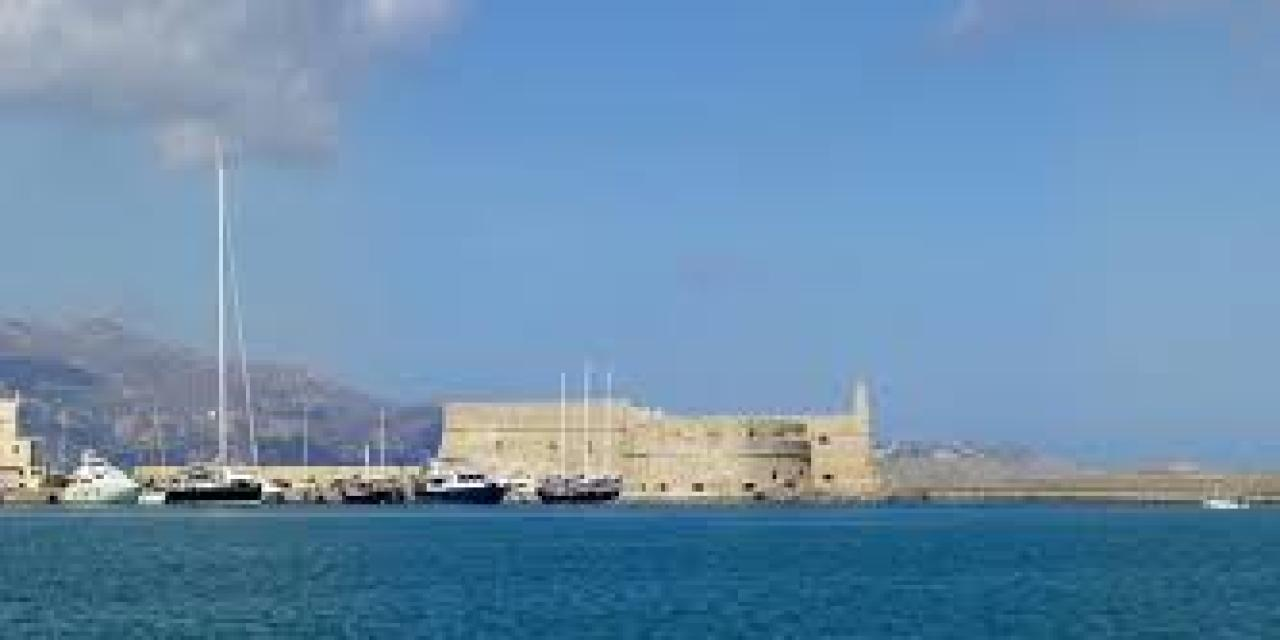Kules: (437, 374, 883, 496)
